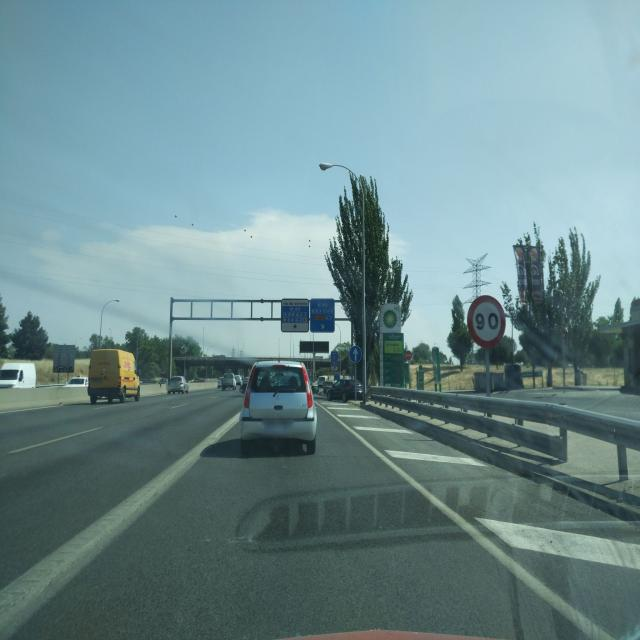car: (240, 356, 318, 456), (87, 348, 141, 404), (0, 359, 37, 388), (325, 378, 364, 402), (167, 376, 190, 394), (221, 373, 236, 391), (66, 376, 88, 386), (234, 374, 242, 386)
